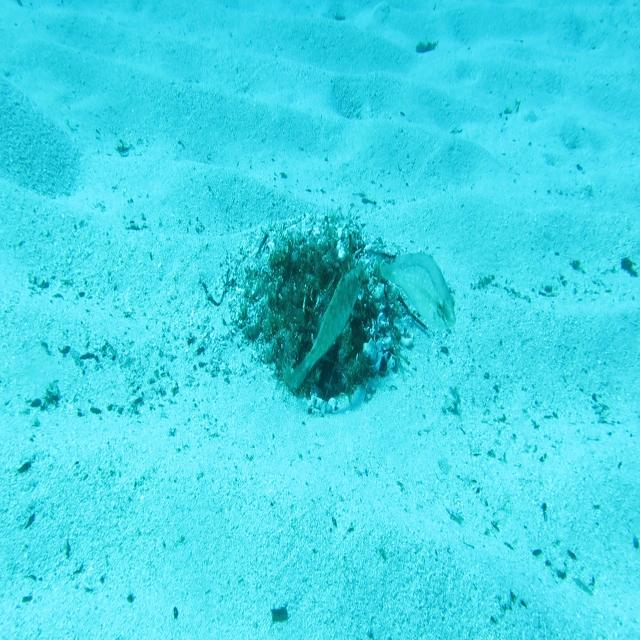FAN: (288, 263, 366, 395)
core_nest: (290, 255, 336, 292)
female: (370, 248, 458, 335)
nest: (222, 207, 420, 438)
vegetation: (623, 259, 640, 287), (415, 38, 439, 56), (273, 606, 289, 622)
